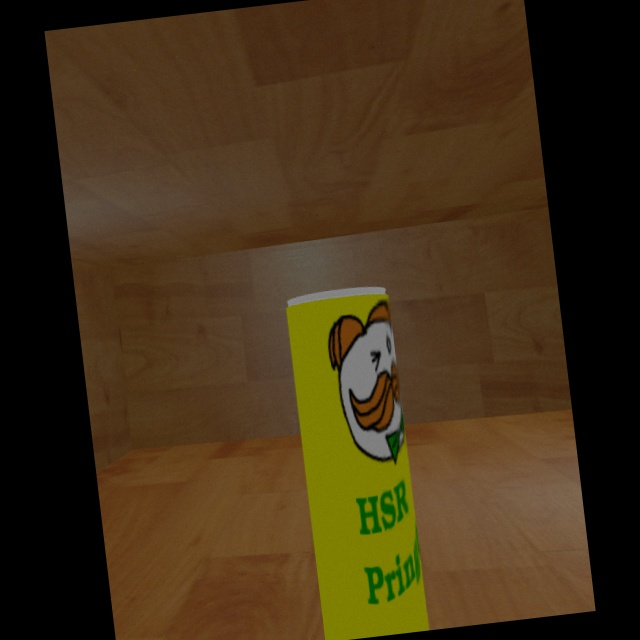chipsdose_gelb: (286, 287, 430, 640)
